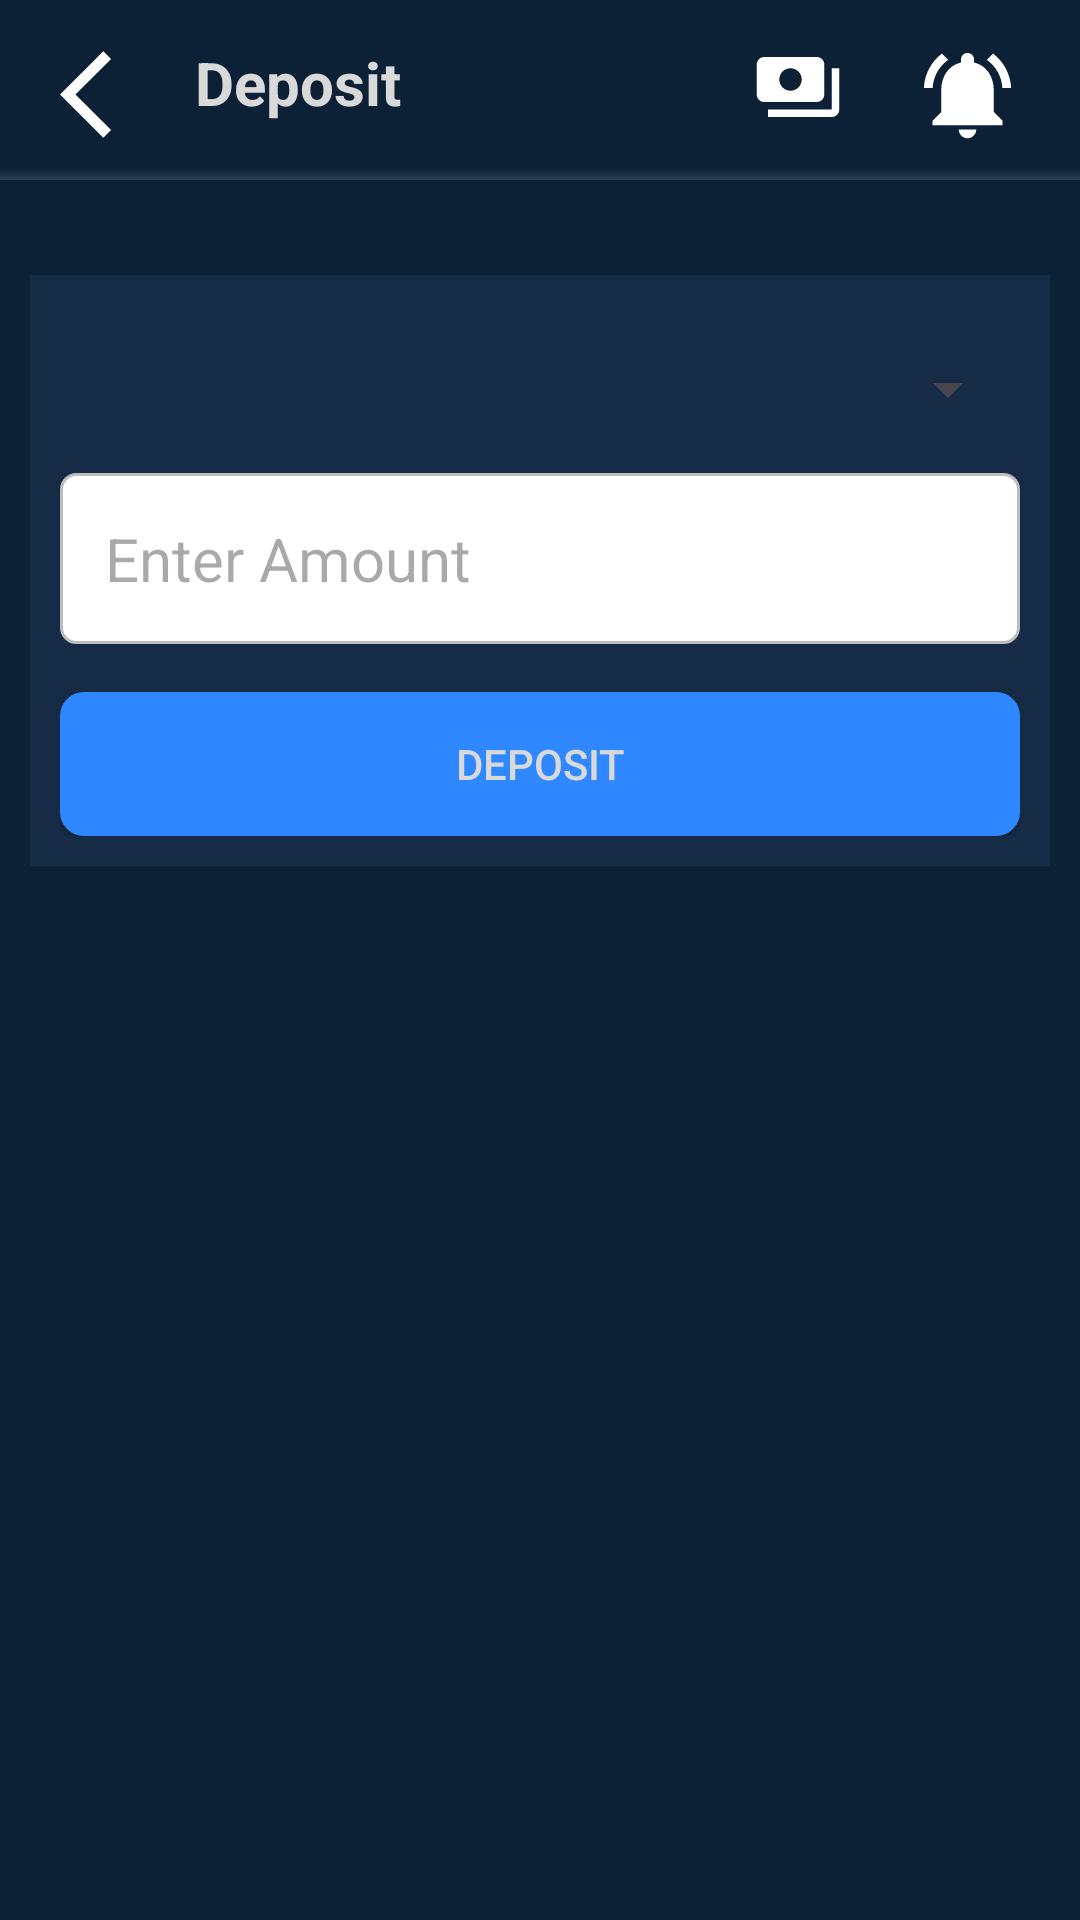

Named icons in this screenshot (1080×1920) and their centers, (x,y):
arrow back: (85,94)
notifications: (967,96)
payments: (798,87)
